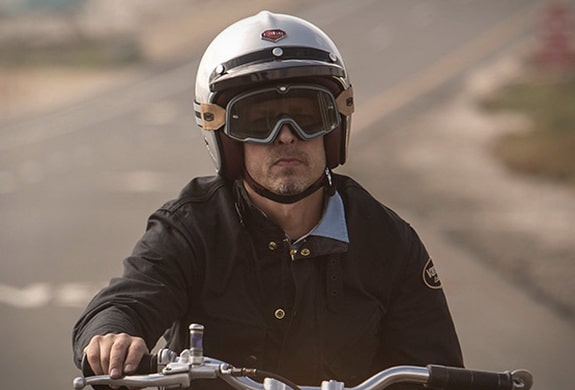helmet: (189, 9, 360, 199)
